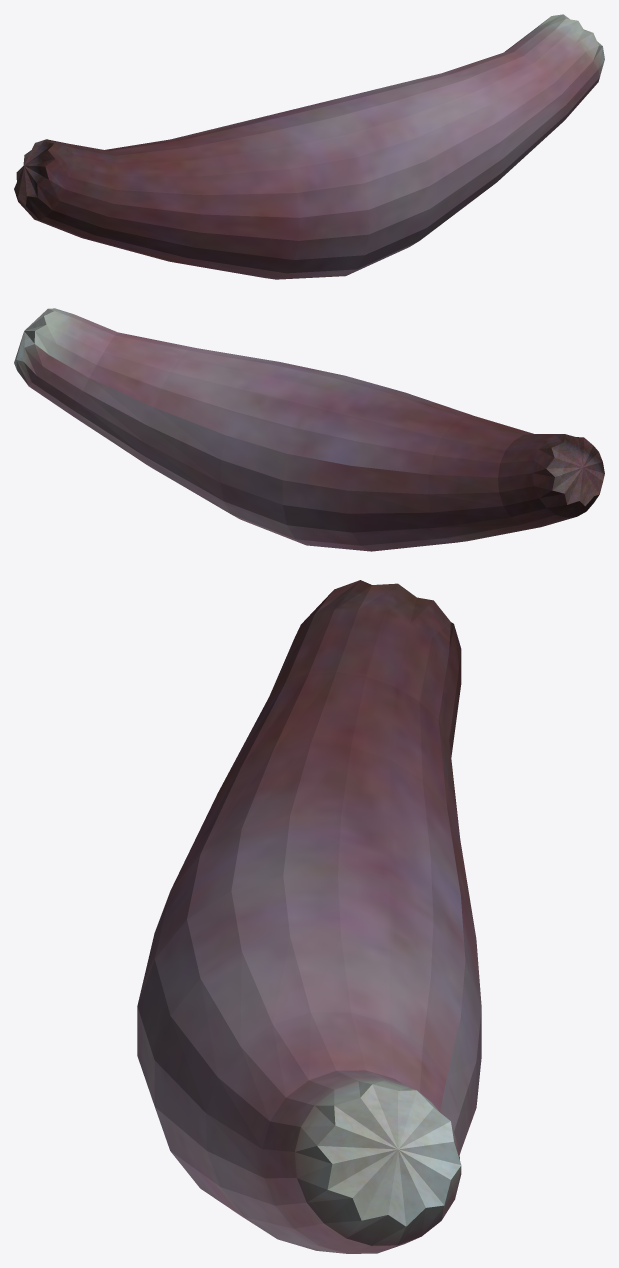
Rendered from lipLo.FBX.
3 renders of one model, top to bottom at view 1: azimuth 30°, elevation 25°; view 2: azimuth 150°, elevation 25°; view 3: azimuth 270°, elevation 25°, orthographic. The views are drawn at different scales.
Visible parts, largest first — view 1: pCylinder2; view 2: pCylinder2; view 3: pCylinder2.
Part boxes in pixels (x1=…): pCylinder2: x1=14, y1=14, x2=604, y2=279; pCylinder2: x1=14, y1=308, x2=604, y2=551; pCylinder2: x1=137, y1=580, x2=481, y2=1253.
Bounding box in the file's own units: 6.28 × 1.84 × 1.63.
Materials: 1 (1 with a texture image).
